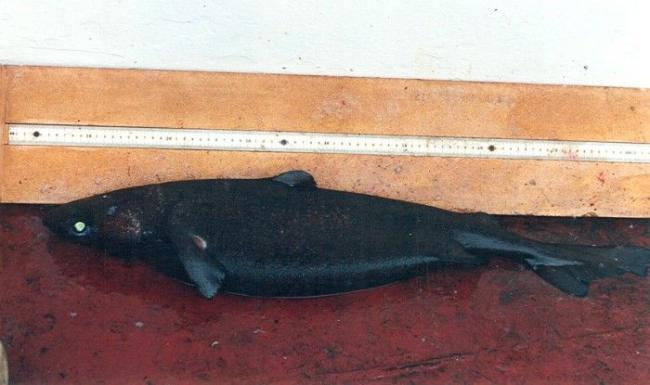fish: (45, 170, 647, 297)
